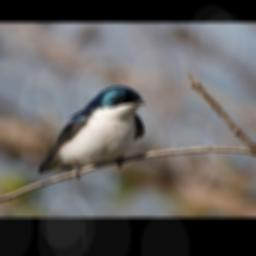Swallow: (35, 85, 145, 181)
